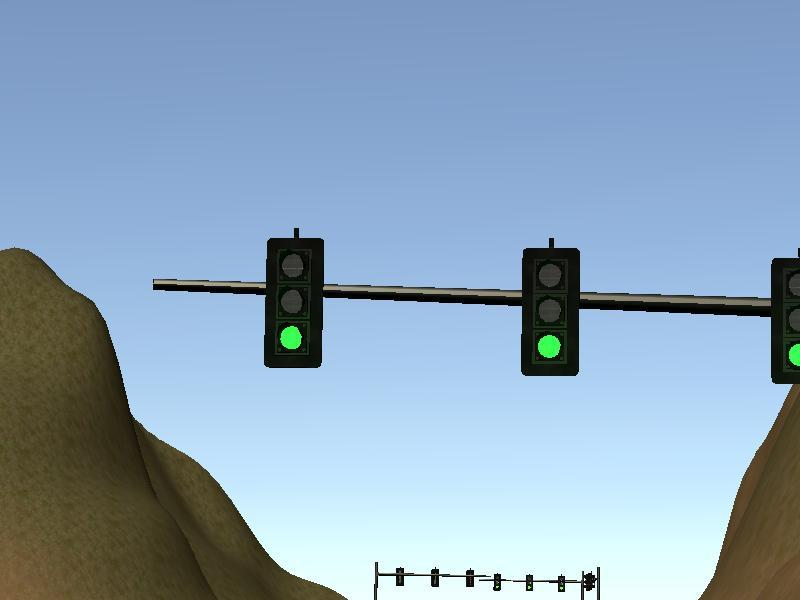Green: (521, 248, 581, 378), (264, 238, 322, 369), (770, 258, 799, 384), (492, 573, 502, 592), (525, 574, 534, 592), (558, 573, 566, 592)
